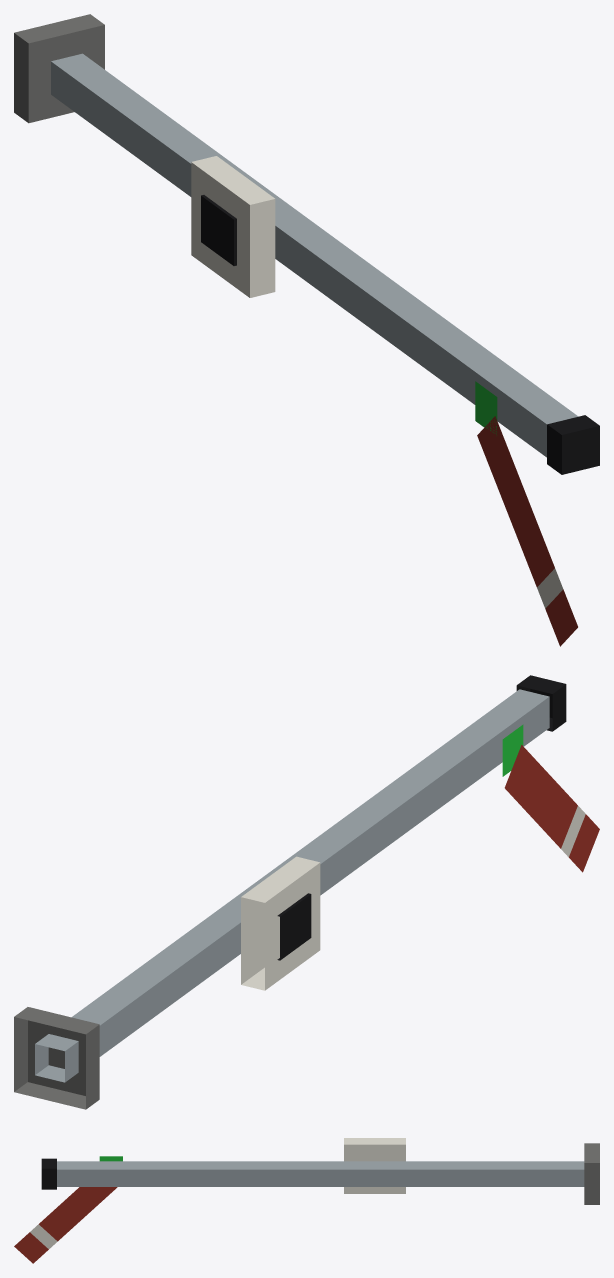
The model's file is green.glb.
3 views of the same model, one above another, from view 1: azimuth 30°, elevation 25°; view 2: azimuth 150°, elevation 25°; view 3: azimuth 270°, elevation 25° (orthographic). The views are drawn at different scales.
Visible parts, largest first — view 1: signal_semaphore_exit_green; view 2: signal_semaphore_exit_green; view 3: signal_semaphore_exit_green.
Boxes of the visible parts, x1=… form: signal_semaphore_exit_green: x1=14, y1=14, x2=599, y2=646; signal_semaphore_exit_green: x1=14, y1=675, x2=599, y2=1109; signal_semaphore_exit_green: x1=14, y1=1138, x2=599, y2=1263.
Size of the model in its own units: 1.35 by 3.46 by 15.11.
